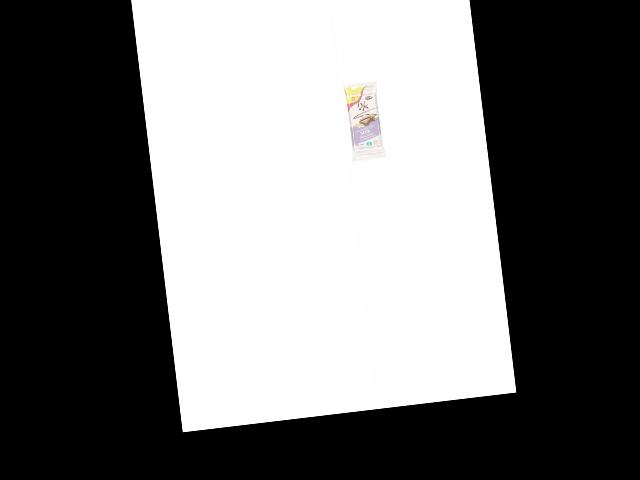chocolate: (340, 78, 389, 162)
